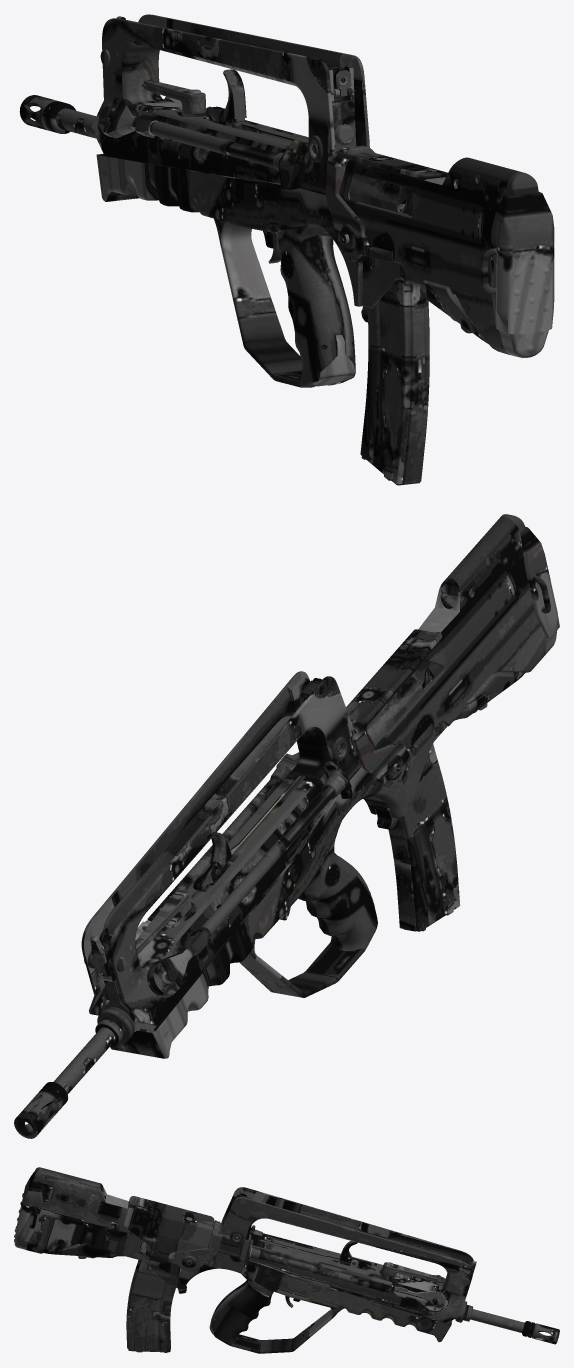
The model's file is p_famas.glb.
3 views of the same model, one above another, from view 1: azimuth 30°, elevation 25°; view 2: azimuth 150°, elevation 25°; view 3: azimuth 270°, elevation 25° (orthographic). The views are drawn at different scales.
Parts seen in each view (by area): view 1: p_famas; view 2: p_famas; view 3: p_famas.
Part boxes in pixels (<box>): p_famas: <box>19,14,554,485</box>; p_famas: <box>14,514,559,1138</box>; p_famas: <box>14,1167,559,1353</box>.
Bounding box in the file's own units: 0.1293 × 0.4089 × 1.08.
1 material, 1 textured.
